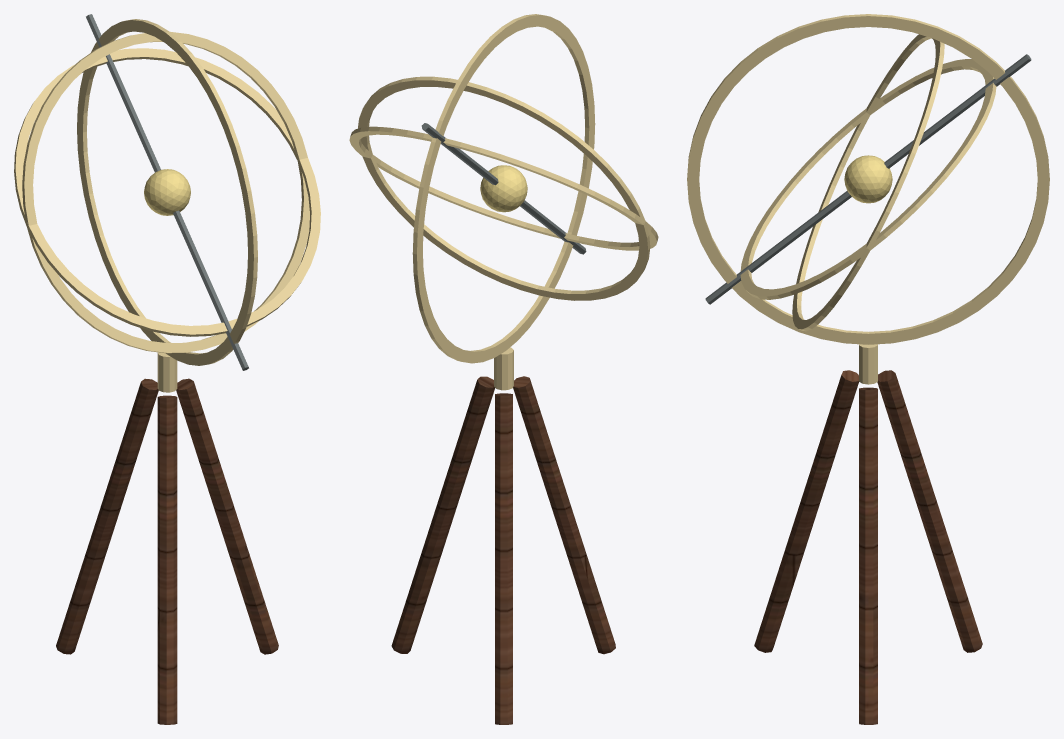
File: armillary_s.glb
3 views of the same model, side by side, from view 1: azimuth 30°, elevation 25°; view 2: azimuth 150°, elevation 25°; view 3: azimuth 270°, elevation 25° (orthographic). The views are drawn at different scales.
Parts seen in each view (by area): view 1: armillary_s_brass, armillary_s_dkwood, armillary_s_iron, armillary_s_gold; view 2: armillary_s_brass, armillary_s_dkwood, armillary_s_gold, armillary_s_iron; view 3: armillary_s_brass, armillary_s_dkwood, armillary_s_iron, armillary_s_gold.
Boxes of the visible parts, x1=… form: armillary_s_brass: x1=14, y1=19, x2=320, y2=392; armillary_s_dkwood: x1=56, y1=378, x2=278, y2=724; armillary_s_iron: x1=86, y1=14, x2=248, y2=370; armillary_s_gold: x1=144, y1=169, x2=190, y2=215; armillary_s_brass: x1=349, y1=14, x2=658, y2=390; armillary_s_dkwood: x1=391, y1=376, x2=615, y2=724; armillary_s_gold: x1=480, y1=165, x2=527, y2=212; armillary_s_iron: x1=421, y1=123, x2=586, y2=254; armillary_s_brass: x1=687, y1=14, x2=1049, y2=384; armillary_s_dkwood: x1=754, y1=370, x2=982, y2=724; armillary_s_iron: x1=705, y1=54, x2=1031, y2=304; armillary_s_gold: x1=844, y1=155, x2=892, y2=203.
Bounding box in the file's own units: 0.82 × 1.81 × 0.9.
4 materials, 1 textured.
